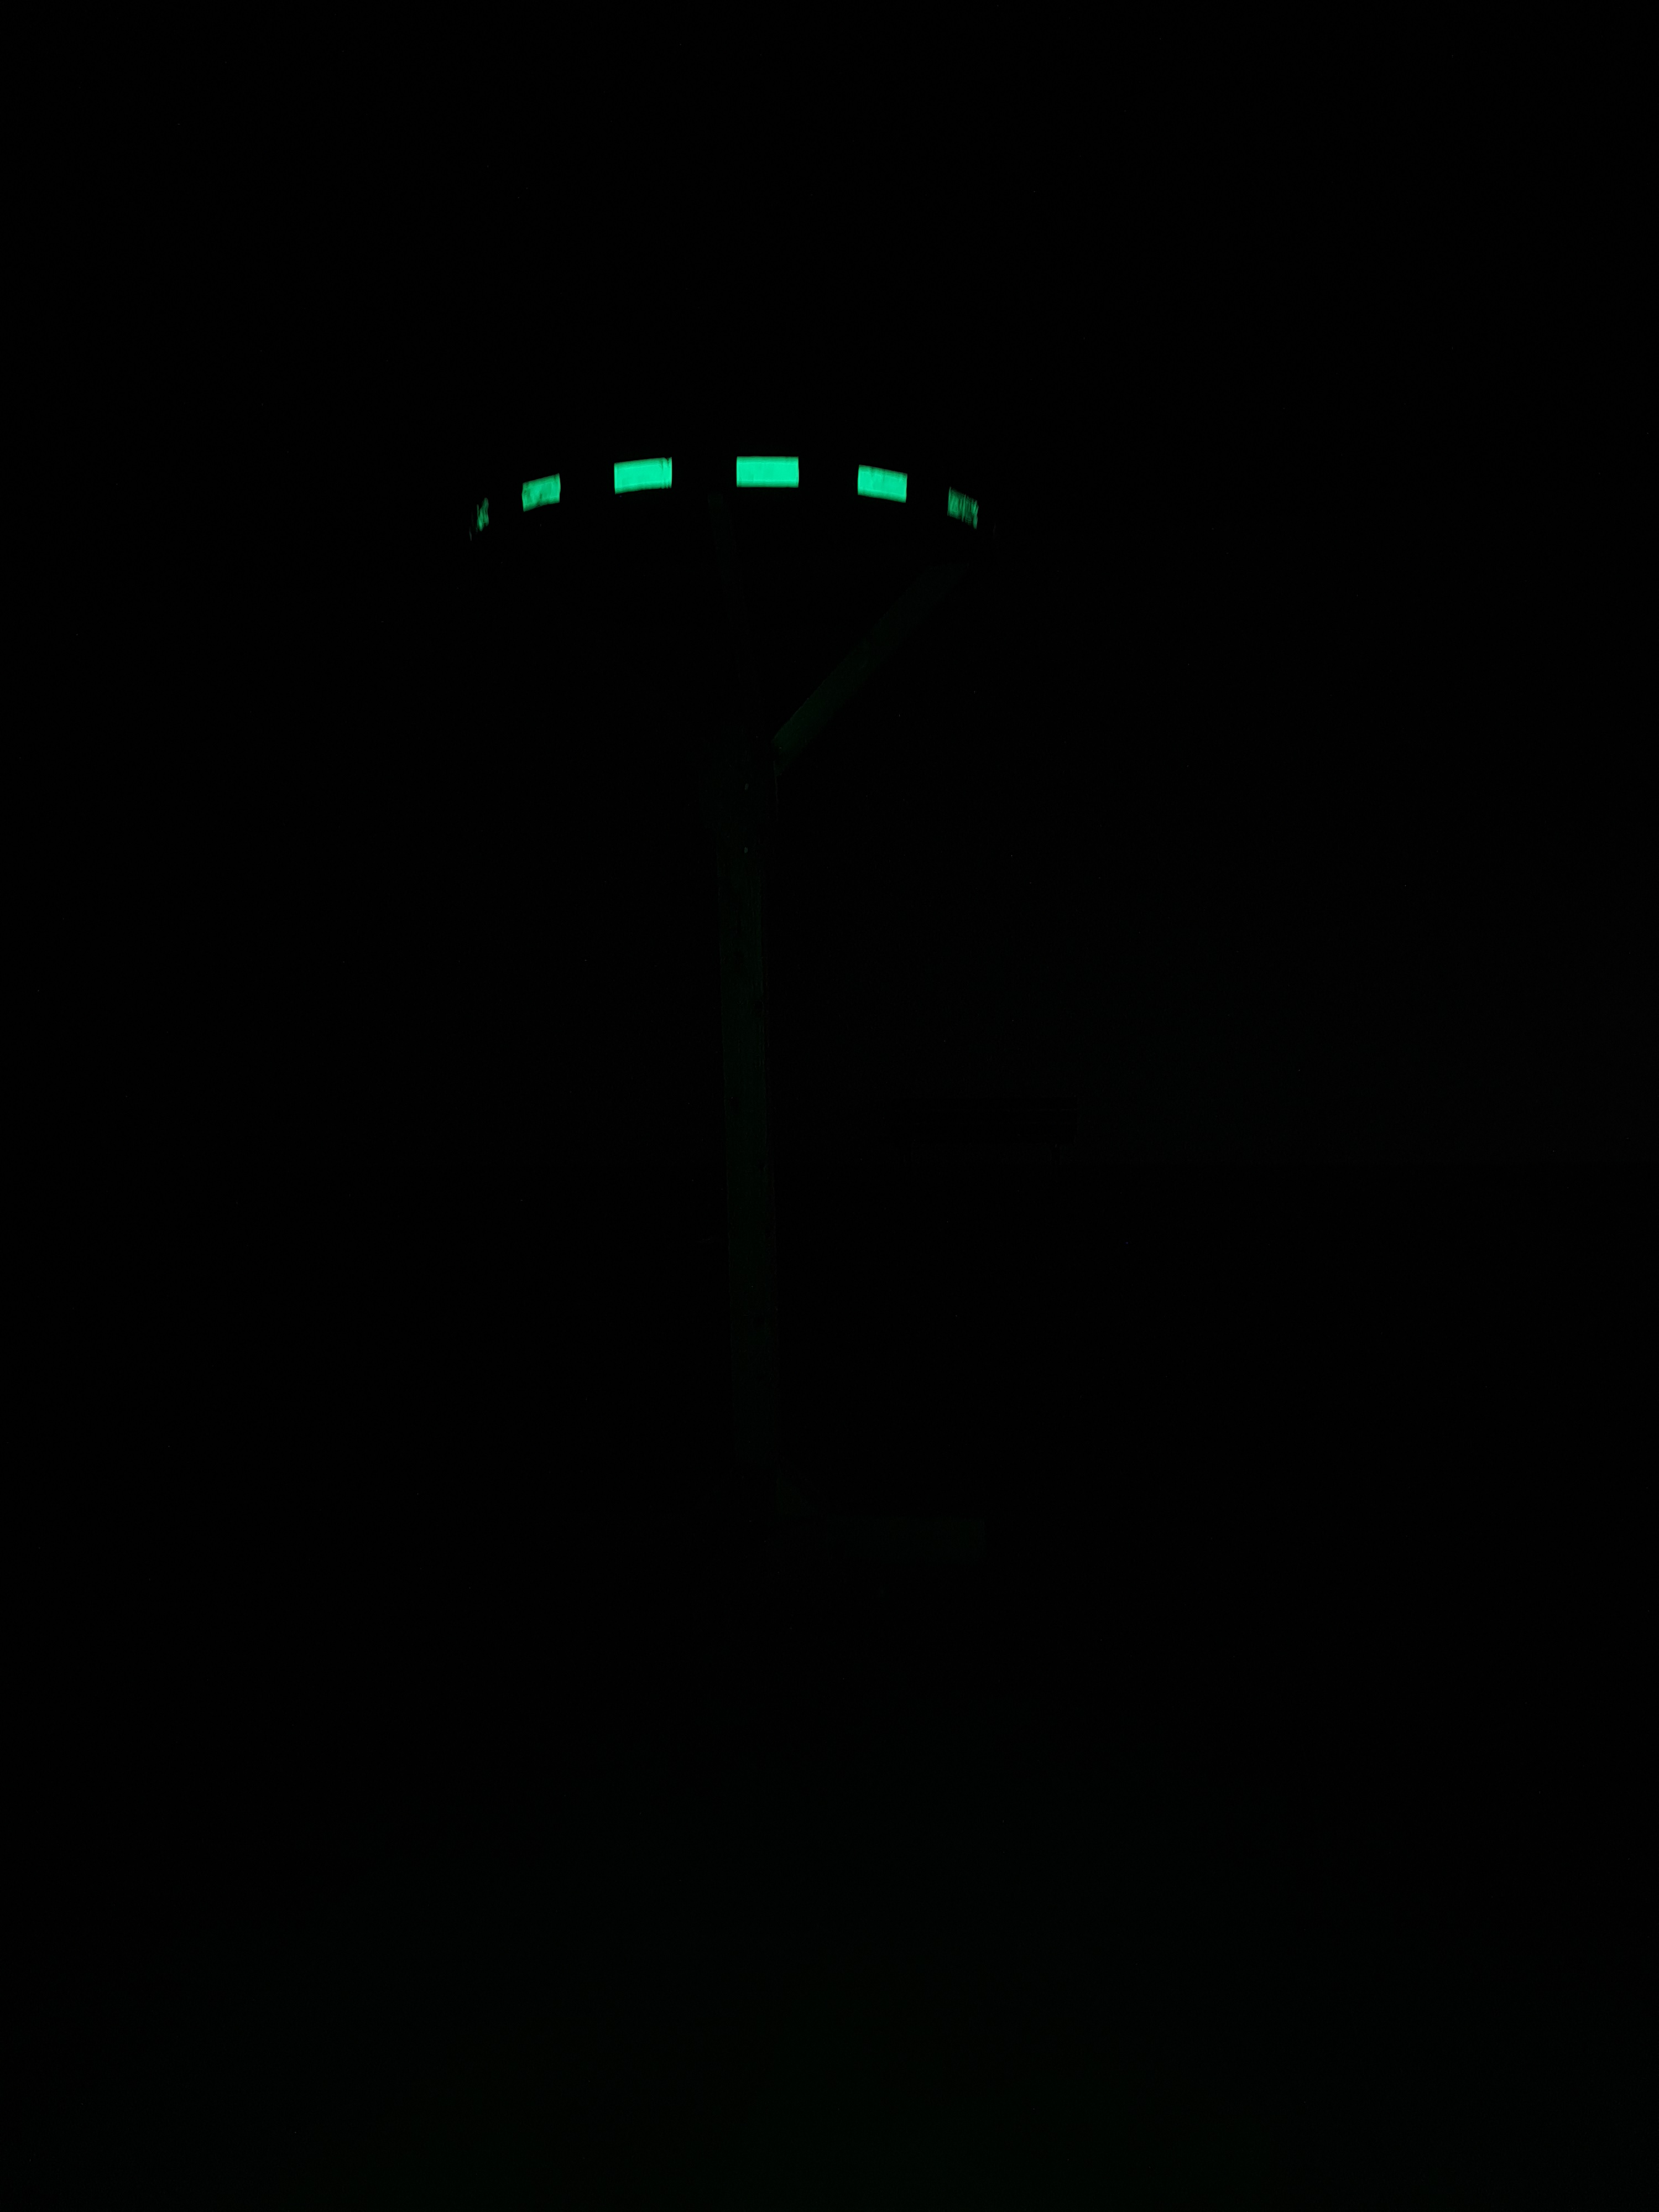hoop: (457, 446, 988, 554)
